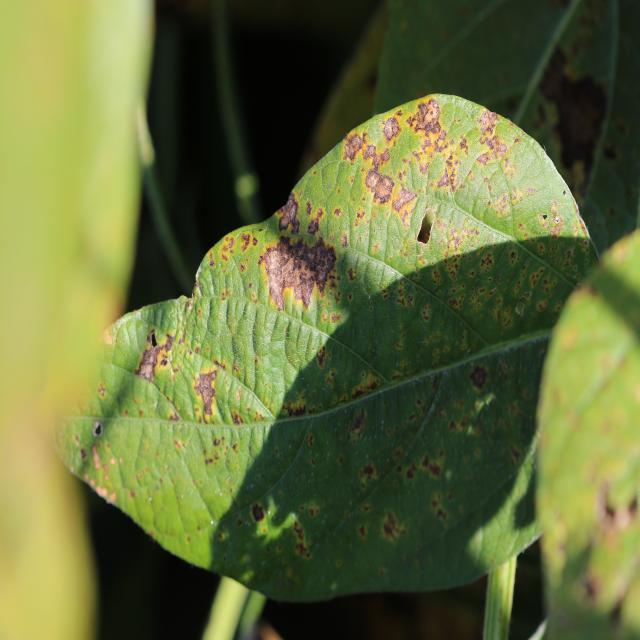Bacterial_Blight: (348, 96, 489, 235), (265, 230, 343, 301), (404, 98, 454, 169), (86, 437, 121, 501), (134, 331, 172, 383), (204, 424, 244, 469), (192, 368, 220, 416), (364, 169, 396, 207), (277, 191, 301, 233), (380, 508, 407, 544), (546, 199, 569, 236), (346, 407, 368, 445), (364, 142, 390, 174), (291, 518, 312, 557), (352, 368, 380, 397), (417, 97, 441, 128), (481, 133, 507, 161), (394, 185, 417, 216), (430, 491, 451, 523), (282, 396, 310, 419), (420, 452, 443, 480), (218, 235, 240, 264), (448, 412, 474, 436), (477, 109, 499, 135), (344, 133, 364, 161), (307, 206, 324, 235), (382, 116, 400, 141), (469, 365, 487, 389), (91, 444, 104, 471), (359, 462, 375, 482), (508, 443, 522, 464), (240, 232, 254, 252), (251, 503, 265, 522), (363, 143, 376, 162), (316, 345, 326, 368), (476, 151, 490, 166), (212, 358, 228, 371), (92, 420, 103, 437), (406, 465, 416, 481), (232, 411, 243, 425), (168, 409, 180, 421), (193, 280, 202, 296), (173, 438, 184, 451), (358, 524, 367, 539), (150, 332, 158, 348), (97, 383, 106, 397), (341, 233, 349, 248), (307, 433, 314, 447), (80, 448, 87, 461), (334, 207, 341, 217)
Soybean: (59, 94, 600, 640)
